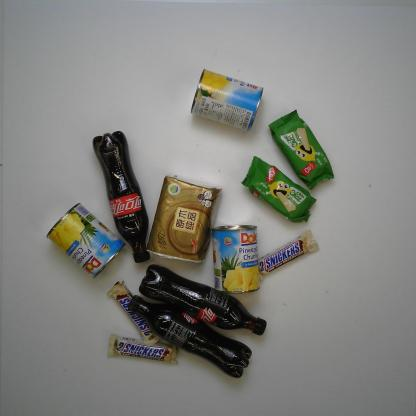Canned Food: (46, 202, 126, 278), (189, 68, 265, 134), (209, 224, 262, 295)
Chocolate: (106, 280, 161, 344), (257, 232, 318, 278), (107, 334, 179, 367)
Dessert: (268, 108, 334, 188), (241, 155, 317, 223)
Drink: (128, 293, 253, 378), (140, 264, 268, 336), (91, 129, 150, 264)
Tissue: (145, 176, 223, 264)
